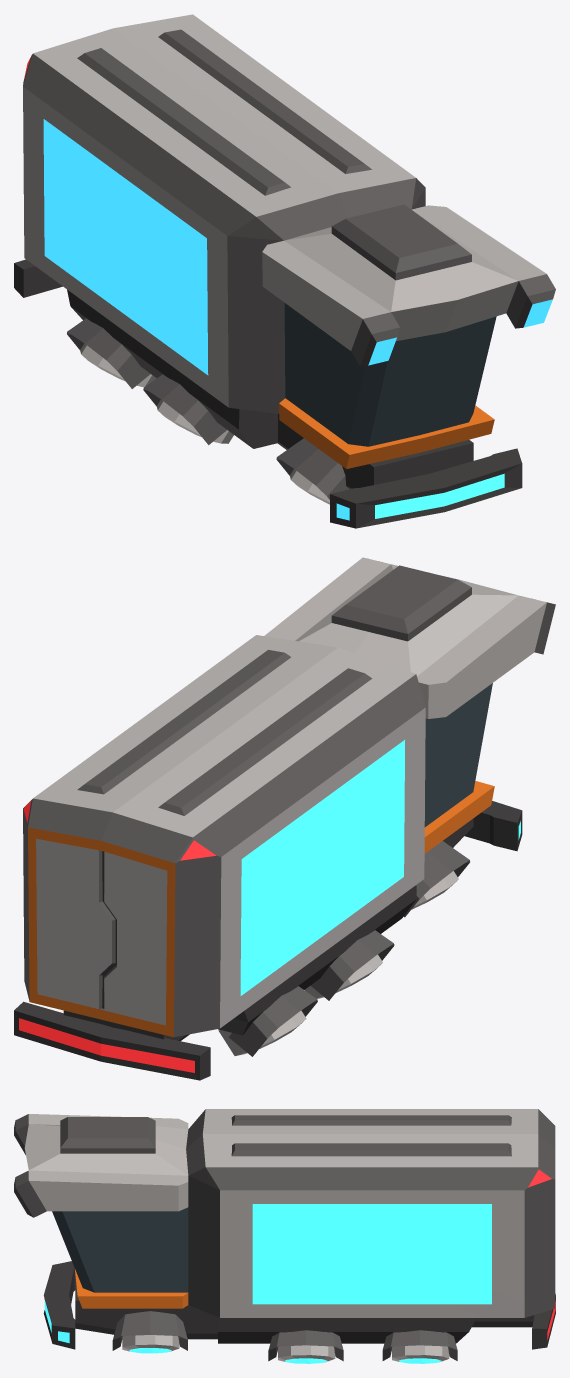
File: scifi_scifi-truck.fbx
3 renders of one model, top to bottom at view 1: azimuth 30°, elevation 25°; view 2: azimuth 150°, elevation 25°; view 3: azimuth 270°, elevation 25°, orthographic. The views are drawn at different scales.
Visible parts, largest first — view 1: scifi_scifi_truck; view 2: scifi_scifi_truck; view 3: scifi_scifi_truck.
Boxes of the visible parts, box(x1,y1,x2,y2) form: scifi_scifi_truck: box(14, 14, 555, 528); scifi_scifi_truck: box(14, 557, 555, 1080); scifi_scifi_truck: box(14, 1109, 555, 1363).
Bounding box in the file's own units: 68.52 × 88.78 × 200.
